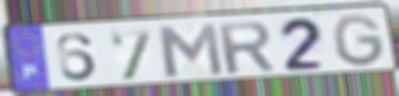2: (278, 15, 331, 75)
6: (54, 32, 100, 84)
7: (108, 27, 154, 83)
G: (330, 13, 388, 69)
M: (153, 21, 227, 80)
R: (214, 19, 278, 76)
